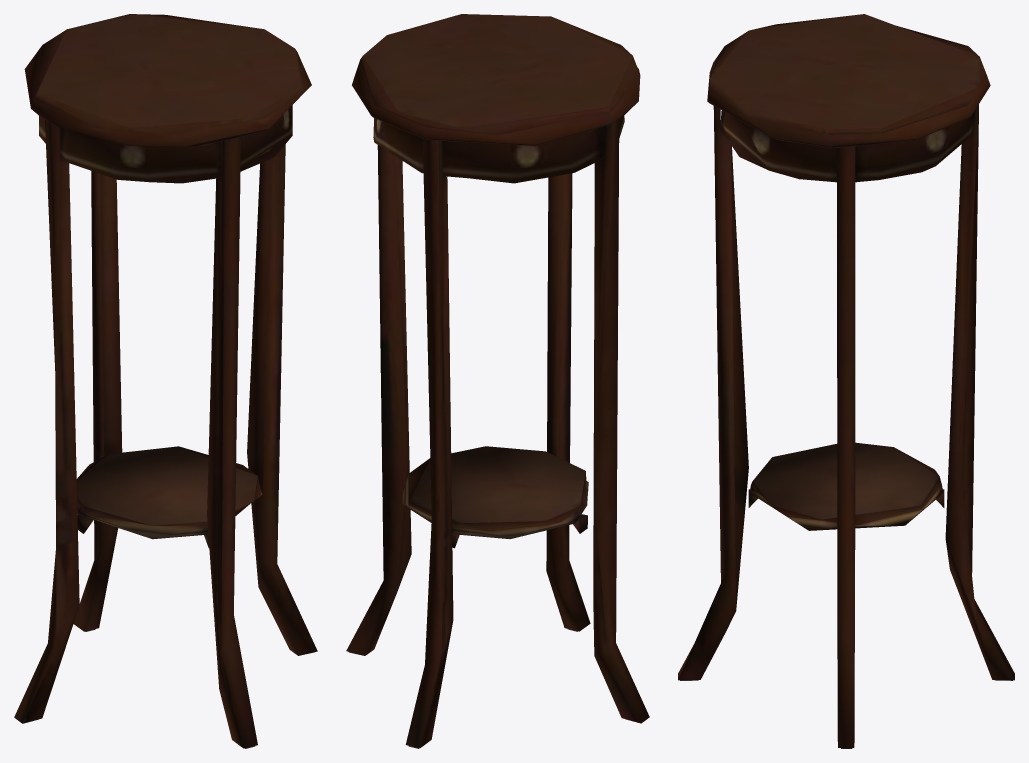
File: plinth.glb
3 views of the same model, side by side, from view 1: azimuth 30°, elevation 25°; view 2: azimuth 150°, elevation 25°; view 3: azimuth 270°, elevation 25° (orthographic).
Parts seen in each view (by area): view 1: plinth; view 2: plinth; view 3: plinth.
Boxes of the visible parts, <box> form: plinth: <box>14,14,317,748</box>; plinth: <box>346,14,649,748</box>; plinth: <box>678,14,1014,748</box>.
Size of the model in its own units: 0.3828 by 0.7611 by 0.3828.
1 material, 1 textured.
